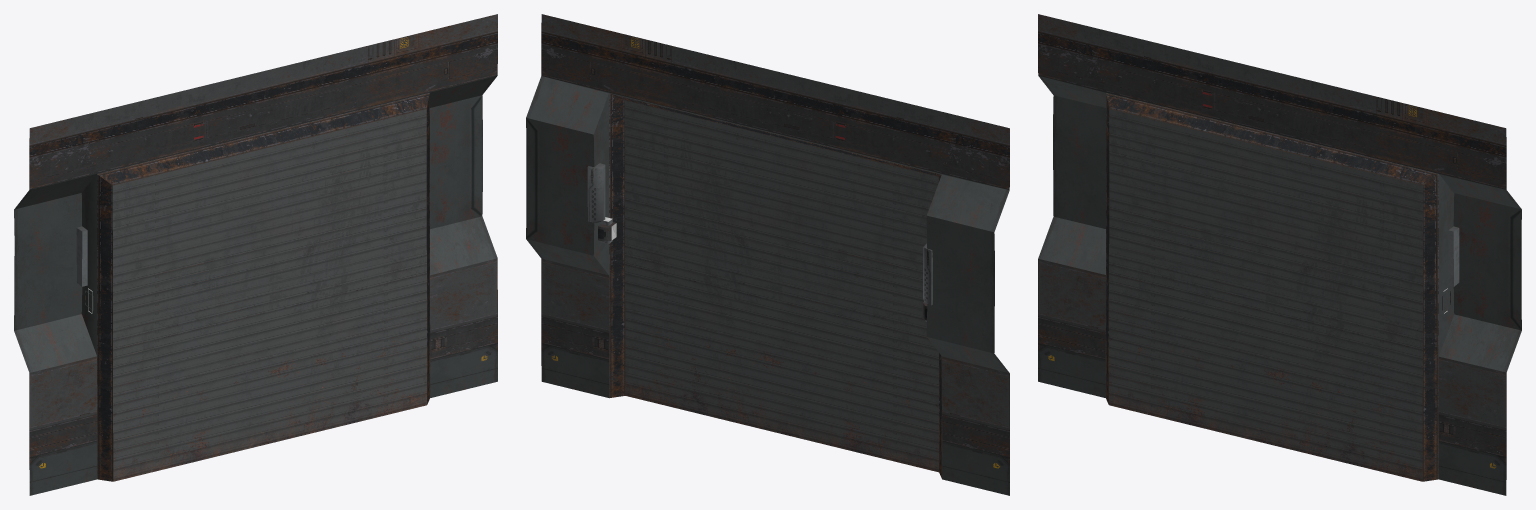
The model's file is ARC0910157.fbx.
3 views of the same model, side by side, from view 1: azimuth 30°, elevation 25°; view 2: azimuth 150°, elevation 25°; view 3: azimuth 330°, elevation 25° (orthographic).
Visible parts, largest first — view 1: smARC0910157; view 2: smARC0910157; view 3: smARC0910157.
Part boxes in pixels (box(x1,y1,x2,y2)): smARC0910157: box(14, 14, 497, 495); smARC0910157: box(526, 14, 1009, 495); smARC0910157: box(1038, 14, 1521, 495).
Bounding box in the file's own units: 400 × 300 × 33.43.
Materials: 1 (1 with a texture image).
